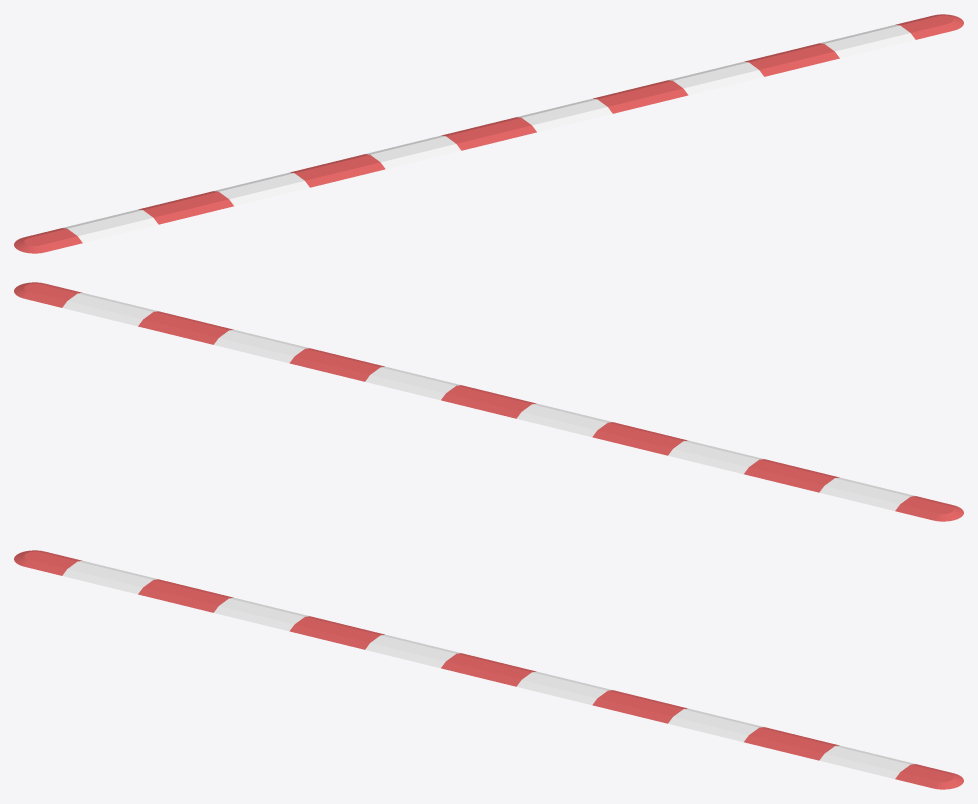
The model's file is Prop_Raceline_Straight.glb.
3 views of the same model, one above another, from view 1: azimuth 30°, elevation 25°; view 2: azimuth 150°, elevation 25°; view 3: azimuth 330°, elevation 25° (orthographic).
Visible parts, largest first — view 1: object1; view 2: object1; view 3: object1.
Boxes of the visible parts, left/top/right/bottom form: object1: left=14, top=14, right=963, bottom=253; object1: left=14, top=282, right=963, bottom=521; object1: left=14, top=550, right=963, bottom=789.
Size of the model in its own units: 1.04 by 0.0033 by 0.0396.
